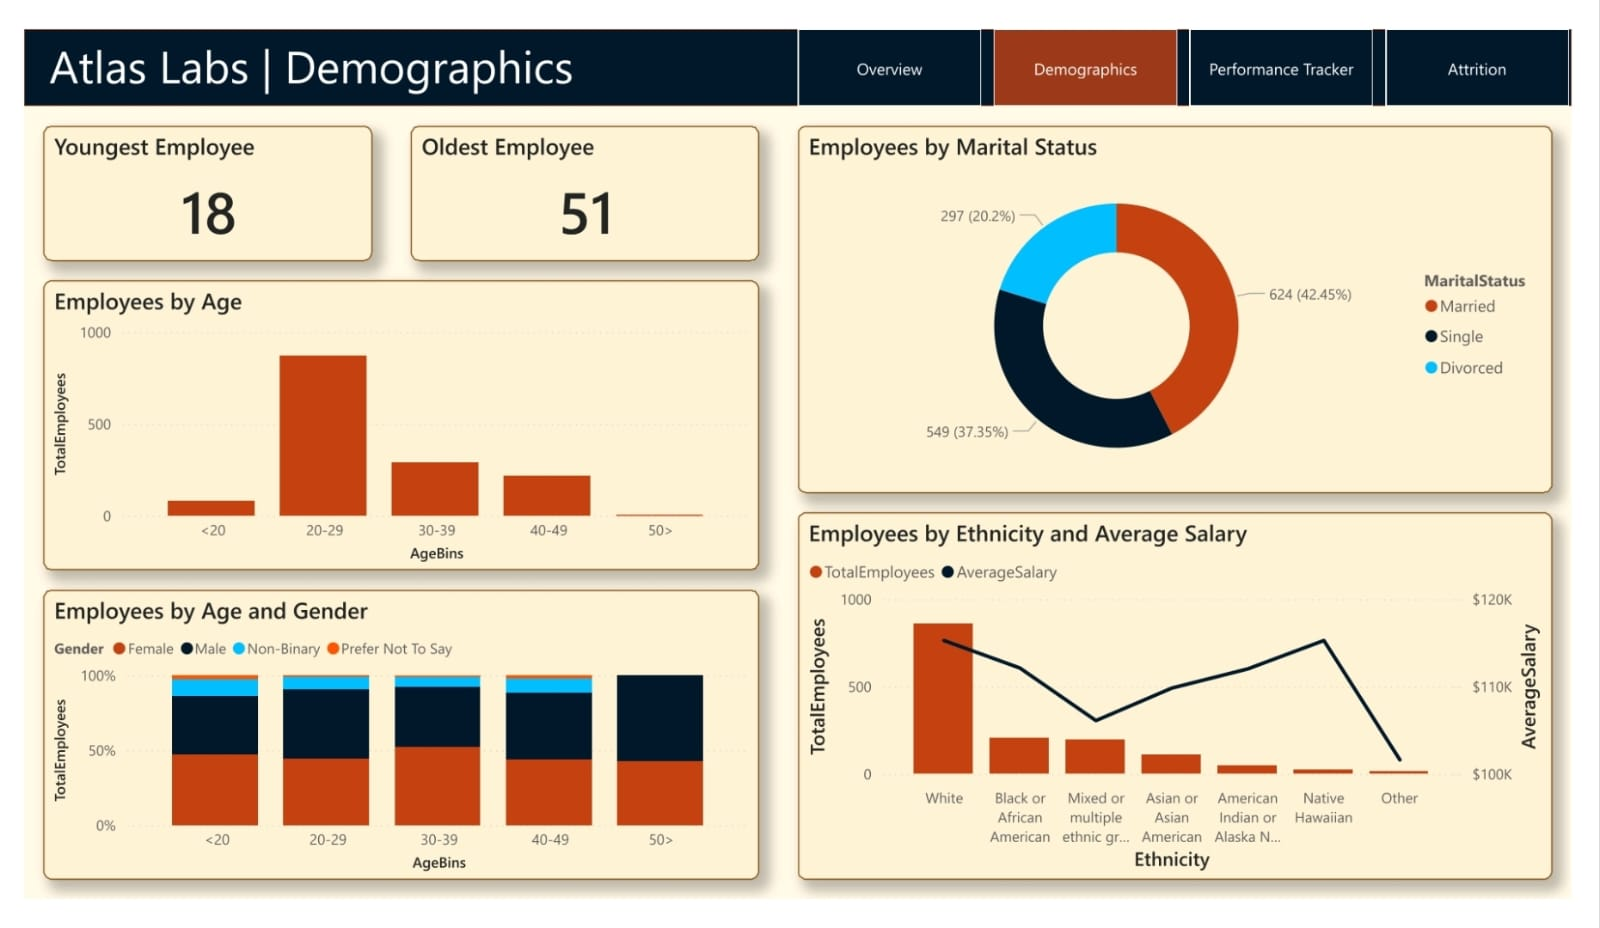

The page's visual inventory and layout, read from the dashboard file:
{"tool":"powerbi","page":{"name":"Demographics","canvas":[1280,720],"ordinal":1},"visuals":[{"type":"card","title":"Youngest Employee","fields":{"Values":["Sum(DimEmployee.Age)"]},"box":[16,80,272,112],"z":0},{"type":"card","title":"Oldest Employee","fields":{"Values":["Sum(DimEmployee.Age)"]},"box":[320,80,288,112],"z":1000},{"type":"columnChart","title":"Employees by Age","fields":{"Category":["DimEmployee.AgeBins"],"Y":["_Measures.TotalEmployees"]},"box":[16,208,592,240],"z":2000},{"type":"hundredPercentStackedColumnChart","title":"Employees by Age and Gender","fields":{"Category":["DimEmployee.AgeBins"],"Series":["DimEmployee.Gender"],"Y":["_Measures.TotalEmployees"]},"box":[16,464,592,240],"z":3000},{"type":"donutChart","title":"Employees by Marital Status","fields":{"Category":["DimEmployee.MaritalStatus"],"Y":["_Measures.TotalEmployees"]},"box":[640,80,624,304],"z":4000},{"type":"lineStackedColumnComboChart","title":"Employees by Ethnicity and Average Salary","fields":{"Category":["DimEmployee.Ethnicity"],"Y":["_Measures.TotalEmployees"],"Y2":["_Measures.AverageSalary"]},"box":[640,400,624,304],"z":5000},{"type":"shape","box":[0,0,1280,64],"z":6000},{"type":"textbox","box":[32,0,624,64],"z":7000},{"type":"pageNavigator","box":[640,0,640,64],"z":8000}]}

Visuals, with their boxes on the page's 1280x720 design canvas (x1, y1, x2, y2). These are canvas units, not pixel positions in the 1600x928 screenshot, which may show the page scaled, cropped or inside an application window:
"Youngest Employee" card: bbox=[16, 80, 288, 192]
"Oldest Employee" card: bbox=[320, 80, 608, 192]
"Employees by Age" columnChart: bbox=[16, 208, 608, 448]
"Employees by Age and Gender" hundredPercentStackedColumnChart: bbox=[16, 464, 608, 704]
"Employees by Marital Status" donutChart: bbox=[640, 80, 1264, 384]
"Employees by Ethnicity and Average Salary" lineStackedColumnComboChart: bbox=[640, 400, 1264, 704]
shape: bbox=[0, 0, 1280, 64]
textbox: bbox=[32, 0, 656, 64]
pageNavigator: bbox=[640, 0, 1280, 64]
